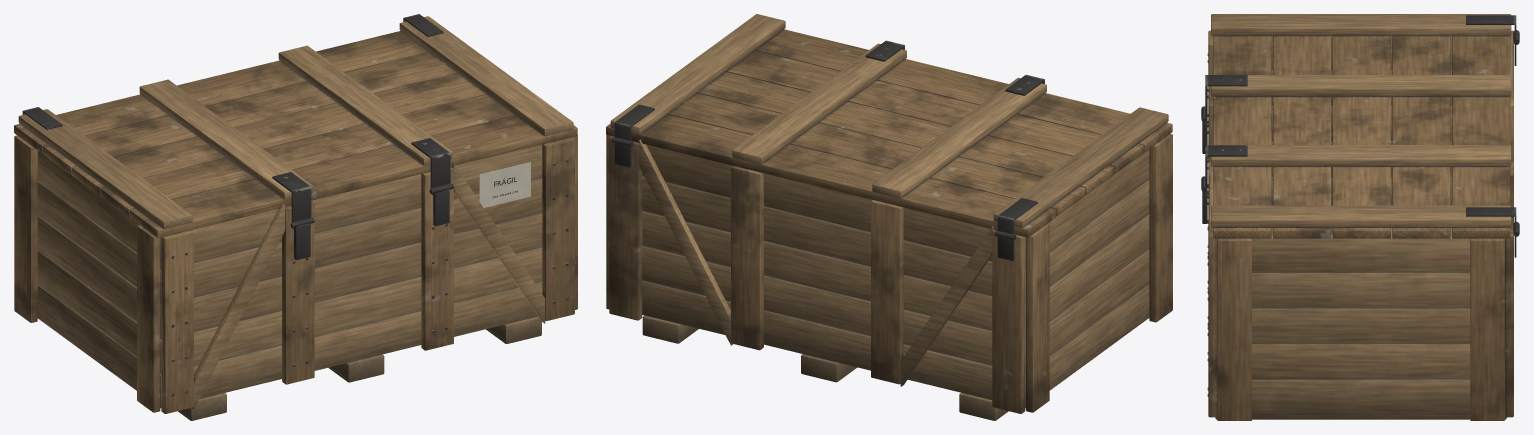
Rendered from caixote_enorme.glb.
3 renders of one model, left to right at view 1: azimuth 30°, elevation 25°; view 2: azimuth 150°, elevation 25°; view 3: azimuth 270°, elevation 25°, orthographic. The views are drawn at different scales.
Parts seen in each view (by area): view 1: tampa, caixote, sarrafos, ferragens, etiqueta; view 2: tampa, caixote, sarrafos, ferragens; view 3: tampa, caixote, sarrafos, ferragens.
Part boxes in pixels (x1,y1,x2,y2): tampa: (14, 16, 577, 237); caixote: (37, 144, 542, 408); sarrafos: (14, 135, 577, 420); ferragens: (22, 14, 568, 396); etiqueta: (479, 162, 530, 207); tampa: (606, 14, 1172, 237); caixote: (642, 144, 1149, 408); sarrafos: (606, 134, 1172, 420); ferragens: (611, 40, 1044, 261); tampa: (1211, 14, 1511, 238); caixote: (1252, 35, 1470, 414); sarrafos: (1208, 30, 1513, 420); ferragens: (1201, 15, 1519, 396).
Bounding box in the file's own units: 1.16 × 0.551 × 0.729.
Materials: 2 (2 with a texture image).
